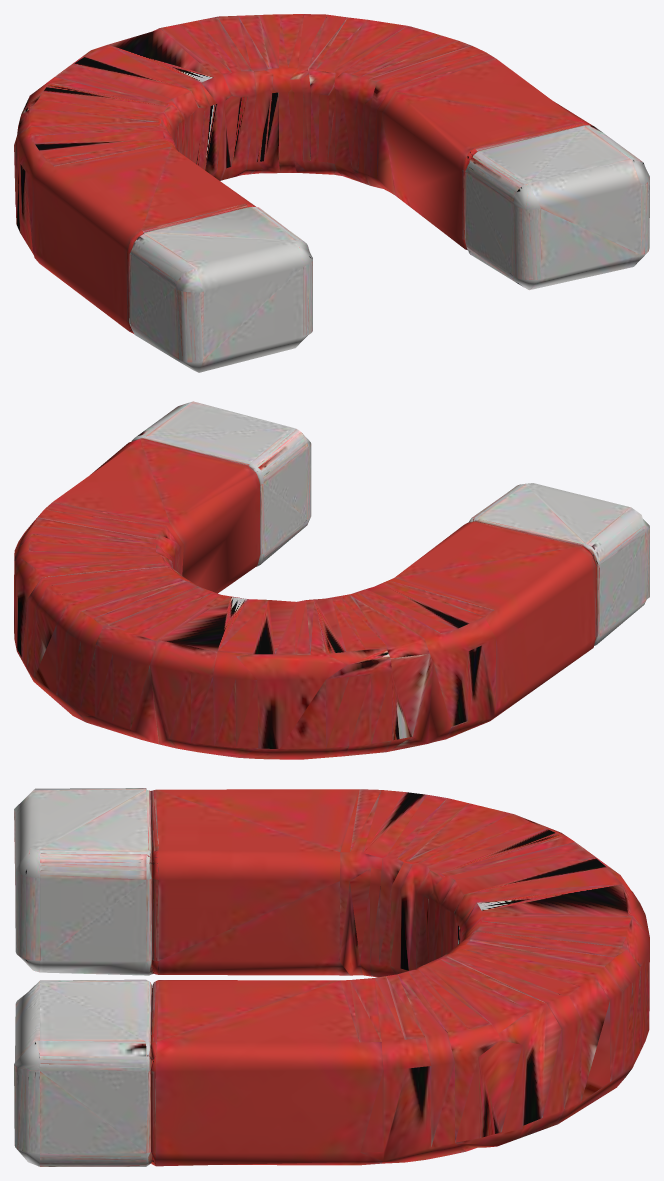
File: magnet.glb
3 renders of one model, top to bottom at view 1: azimuth 30°, elevation 25°; view 2: azimuth 150°, elevation 25°; view 3: azimuth 270°, elevation 25°, orthographic. The views are drawn at different scales.
Visible parts, largest first — view 1: geometry_0; view 2: geometry_0; view 3: geometry_0.
Boxes of the visible parts, x1,y1,x2,y2 form: geometry_0: (14,14,649,372); geometry_0: (14,401,649,759); geometry_0: (14,788,649,1166).
Size of the model in its own units: 0.9526 by 0.2026 by 0.9487.
Materials: 1 (1 with a texture image).
